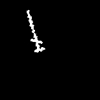double_crochet: (27, 10, 44, 51)
